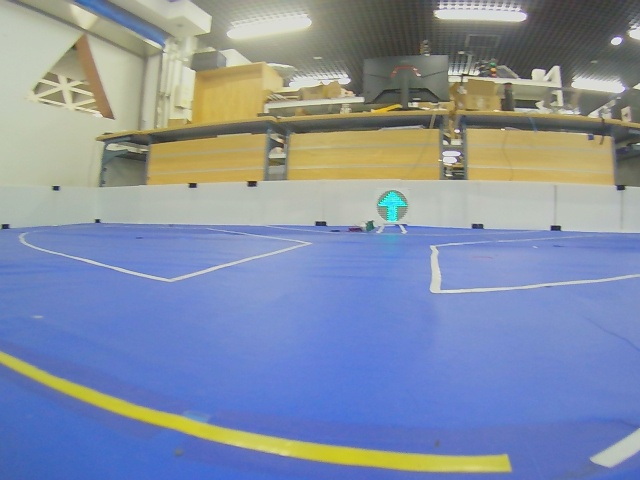straight_green: (376, 190, 409, 224)
